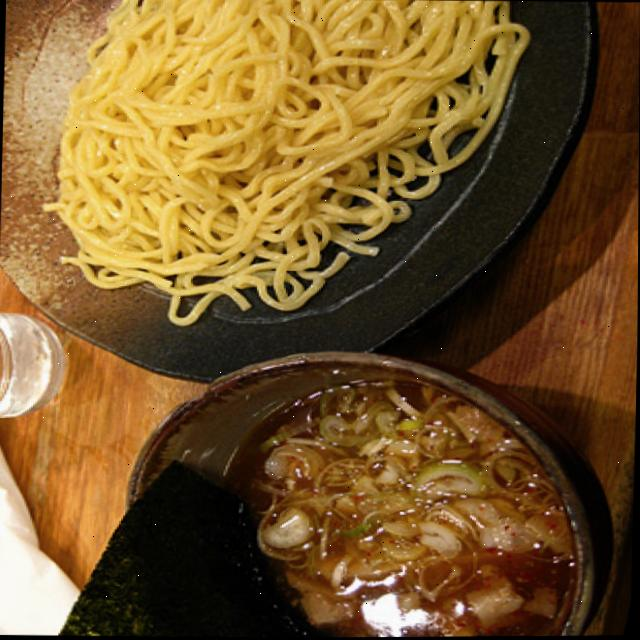面条主食: (44, 0, 593, 640)
